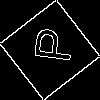P: (25, 25, 74, 64)
